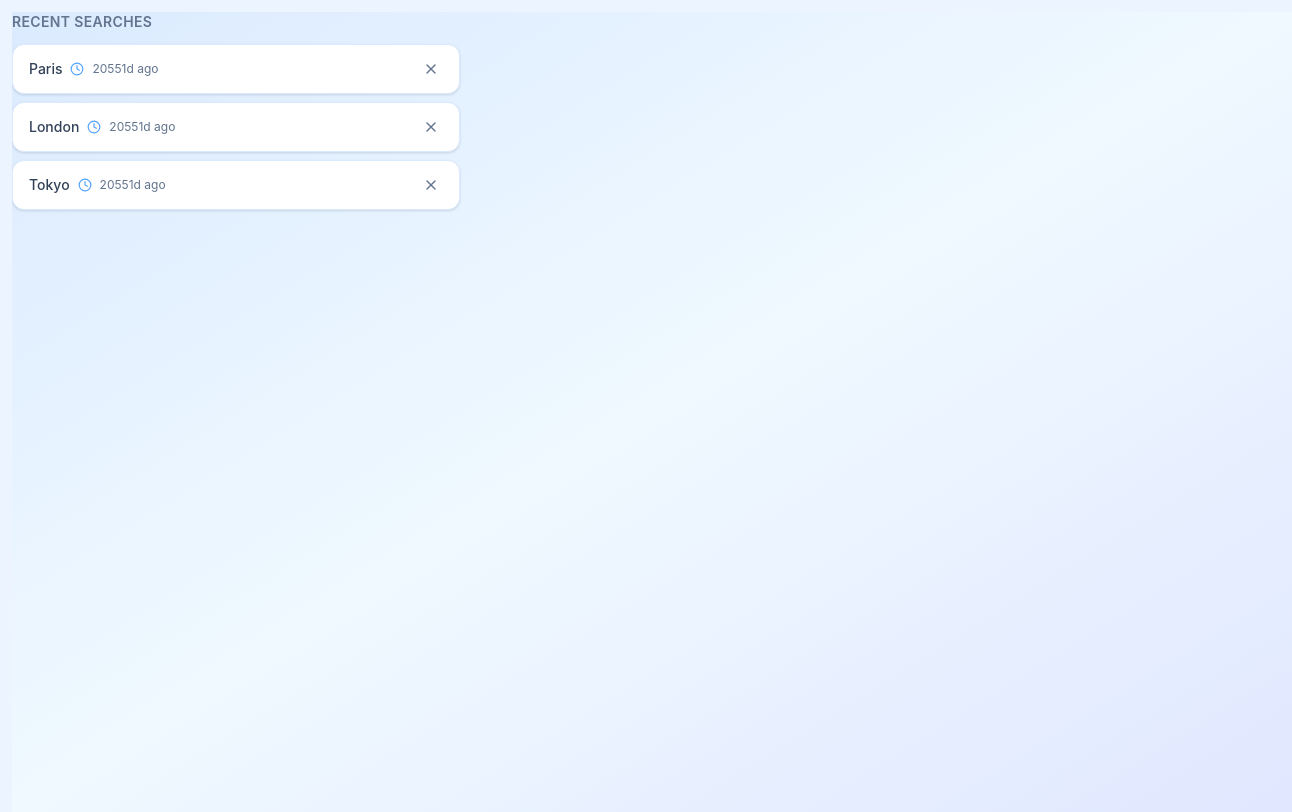
Remove and undo flow integration › remove › shows the undo toast with the removed city name
This screenshot has width=1292, height=812.
Click the button named "remove paris": (431, 69) [419, 57, 443, 81]
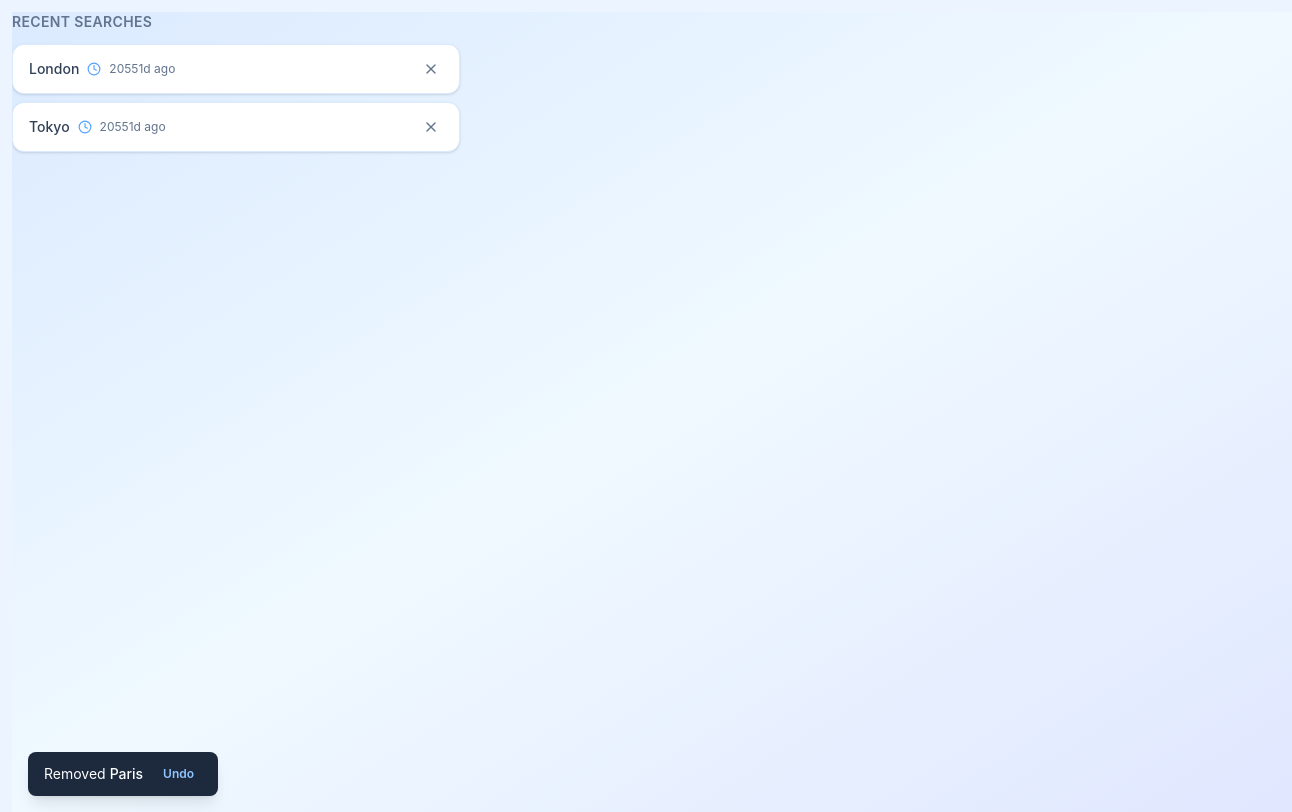
Expected: the message shows "Paris", [110, 765, 143, 782]
Expected: the button "Undo" is shown, [155, 764, 202, 784]
